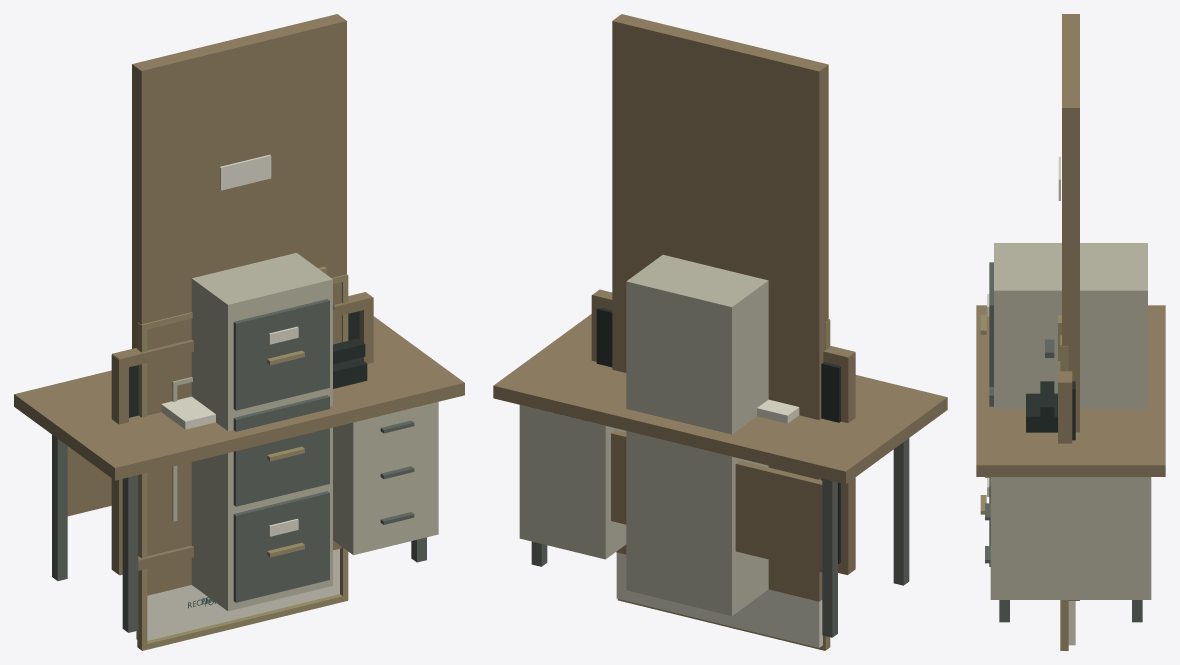
The model's file is continuity-props.glb.
3 renders of one model, left to right at view 1: azimuth 30°, elevation 25°; view 2: azimuth 150°, elevation 25°; view 3: azimuth 270°, elevation 25°, orthographic. The views are drawn at different scales.
Visible parts, largest first — view 1: Door_leaf, Top, Archive_case, Drawer_pedestal, Drawer.002, Drawer, Drawer.001, Poster_board.002, Leg, Frame.008, Portrait_frame, Modesty_panel (+11 smaller); view 2: Door_leaf, Archive_case, Top, Drawer_pedestal, Modesty_panel, Poster_board.002, Leg.001, Portrait_frame, Leg, Portrait_back, Portrait_frame.003, Paper_stack; view 3: Archive_case, Drawer_pedestal, Top, Door_leaf, Phone, Portrait_frame.001, Frame.009, Drawer.002, Handset, Poster_board.002.
Part boxes in pixels (x1=…): Door_leaf: x1=132, y1=14, x2=346, y2=595; Top: x1=14, y1=316, x2=464, y2=480; Archive_case: x1=191, y1=253, x2=332, y2=611; Drawer_pedestal: x1=333, y1=402, x2=438, y2=555; Drawer.002: x1=233, y1=299, x2=329, y2=410; Drawer: x1=233, y1=491, x2=329, y2=602; Drawer.001: x1=233, y1=395, x2=329, y2=506; Poster_board.002: x1=136, y1=549, x2=339, y2=640; Leg: x1=122, y1=475, x2=138, y2=632; Frame.008: x1=137, y1=322, x2=147, y2=650; Portrait_frame: x1=111, y1=354, x2=128, y2=574; Modesty_panel: x1=67, y1=446, x2=111, y2=516; Door_leaf: x1=612, y1=14, x2=828, y2=601; Archive_case: x1=626, y1=254, x2=768, y2=615; Top: x1=493, y1=314, x2=947, y2=484; Drawer_pedestal: x1=519, y1=405, x2=626, y2=559; Modesty_panel: x1=611, y1=430, x2=822, y2=572; Poster_board.002: x1=616, y1=552, x2=822, y2=647; Leg.001: x1=822, y1=478, x2=837, y2=637; Portrait_frame: x1=838, y1=352, x2=855, y2=574; Leg: x1=893, y1=438, x2=909, y2=585; Portrait_back: x1=596, y1=307, x2=840, y2=563; Portrait_frame.003: x1=592, y1=289, x2=854, y2=367; Paper_stack: x1=757, y1=399, x2=799, y2=423; Archive_case: x1=994, y1=243, x2=1147, y2=409; Drawer_pedestal: x1=990, y1=477, x2=1151, y2=599; Top: x1=976, y1=305, x2=1165, y2=476; Door_leaf: x1=1062, y1=14, x2=1079, y2=600; Phone: x1=1026, y1=393, x2=1057, y2=432; Portrait_frame.001: x1=1058, y1=382, x2=1072, y2=443; Frame.009: x1=1060, y1=346, x2=1068, y2=650; Drawer.002: x1=989, y1=262, x2=993, y2=386; Handset: x1=1040, y1=381, x2=1054, y2=419; Poster_board.002: x1=1068, y1=601, x2=1075, y2=645.
Bounding box in the file's own units: 1.6 × 2.53 × 0.8.
